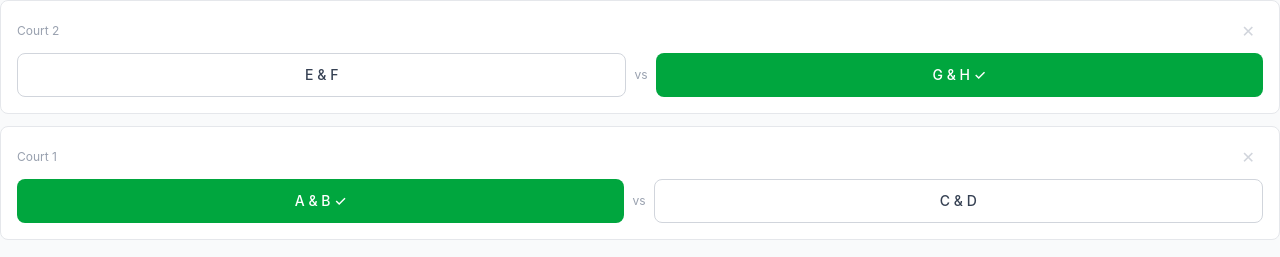
MatchesTab › deletes a record after confirm
Click the button named "Delete game" at (1248, 31), box [1234,17,1263,45]
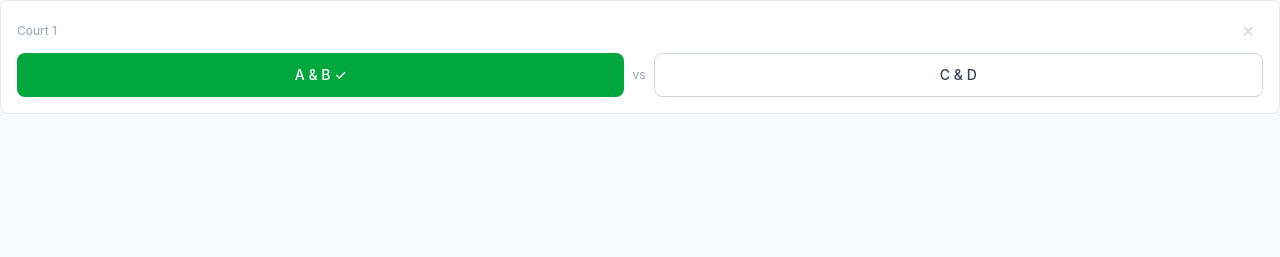
Check: the number of elements with test id "game-row" is 1, box [0,0,1279,114]
